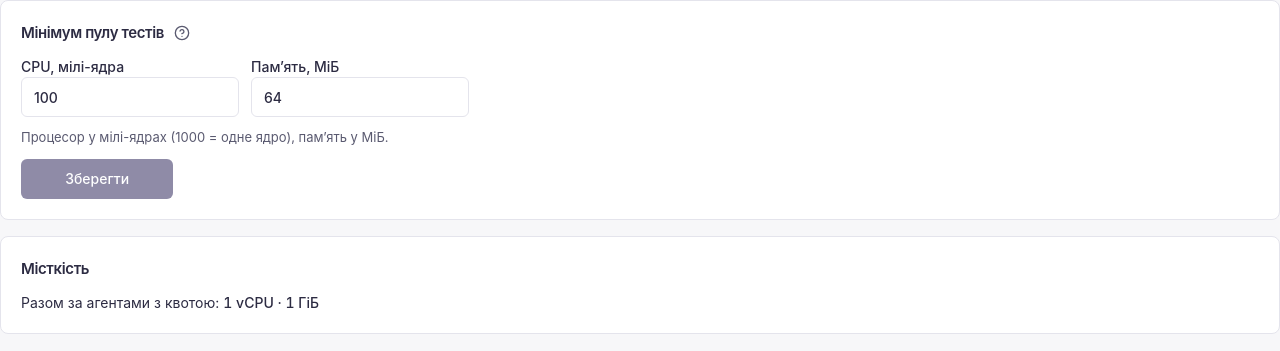
test pool settings Save › ignores equivalent and reverted amounts and guards submitting a clean form
Expected: the button "Зберегти" is disabled, [21,159,173,199]
Replace the text in the field showing "100" with "0100" at (130, 97), box [21,77,239,117]
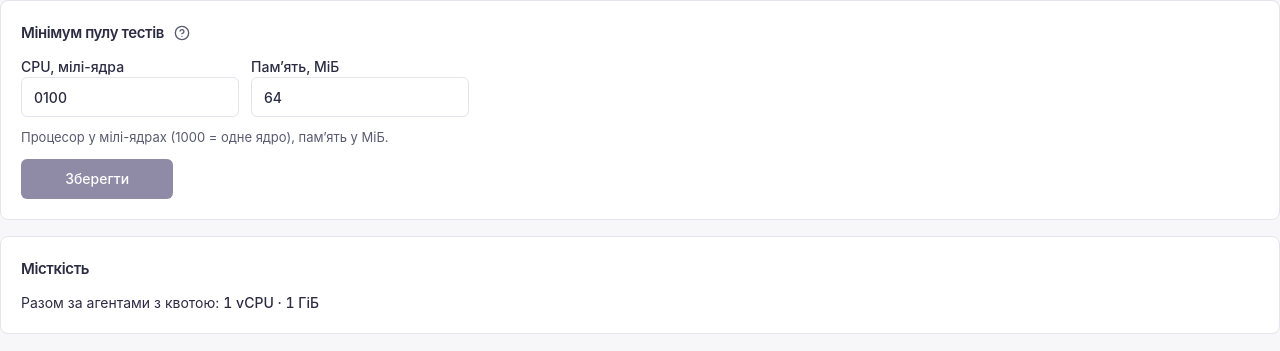
Expected: the button "Зберегти" is disabled, [21,159,173,199]
Submit the form showing "100", box [21,58,469,199]
Replace the text in the field showing "100" with "200" at (130, 97), box [21,77,239,117]
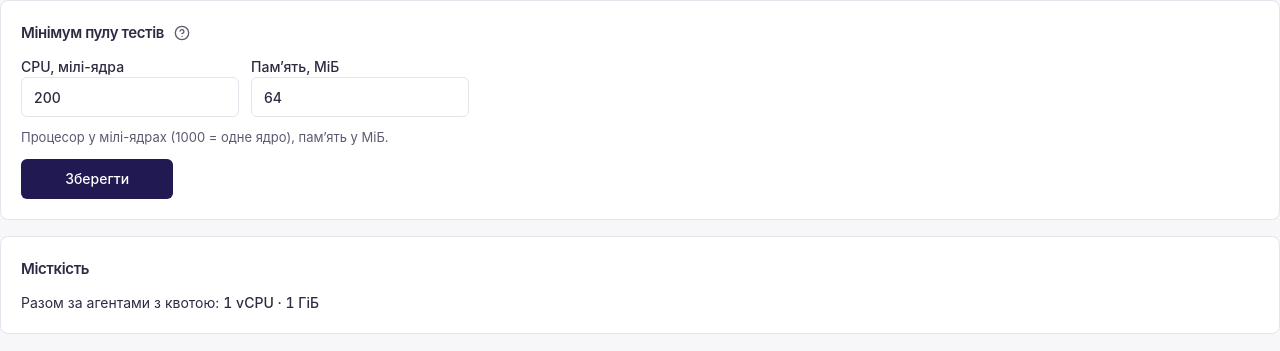
Result: the button "Зберегти" is enabled at [21,159,173,199]
Replace the text in the field showing "100" with "100" at (130, 97), box [21,77,239,117]
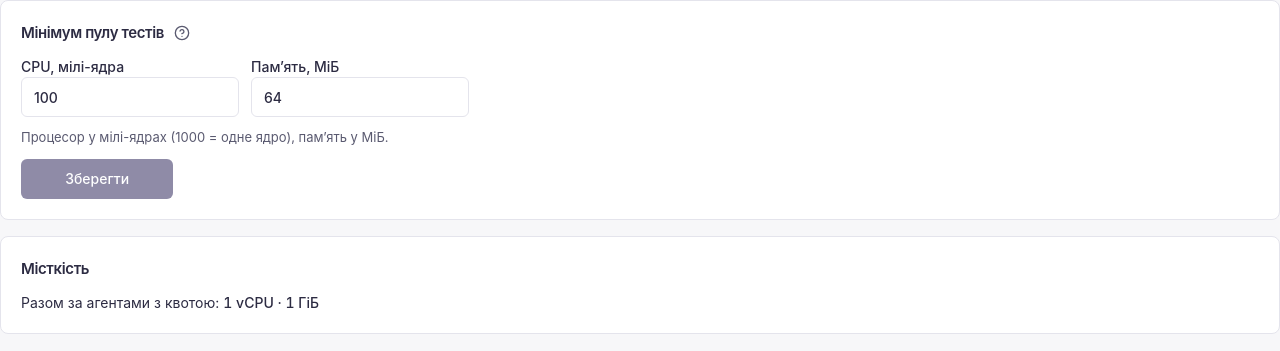
Result: the button "Зберегти" is disabled at [21,159,173,199]
